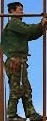boots: (7, 113, 25, 121), (0, 89, 6, 98)
gloves: (0, 13, 4, 23), (0, 116, 4, 121)
hard-hat: (7, 1, 23, 12)
ppe-suit: (0, 13, 24, 119)
